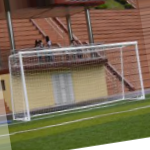goals: (7, 39, 149, 122)
